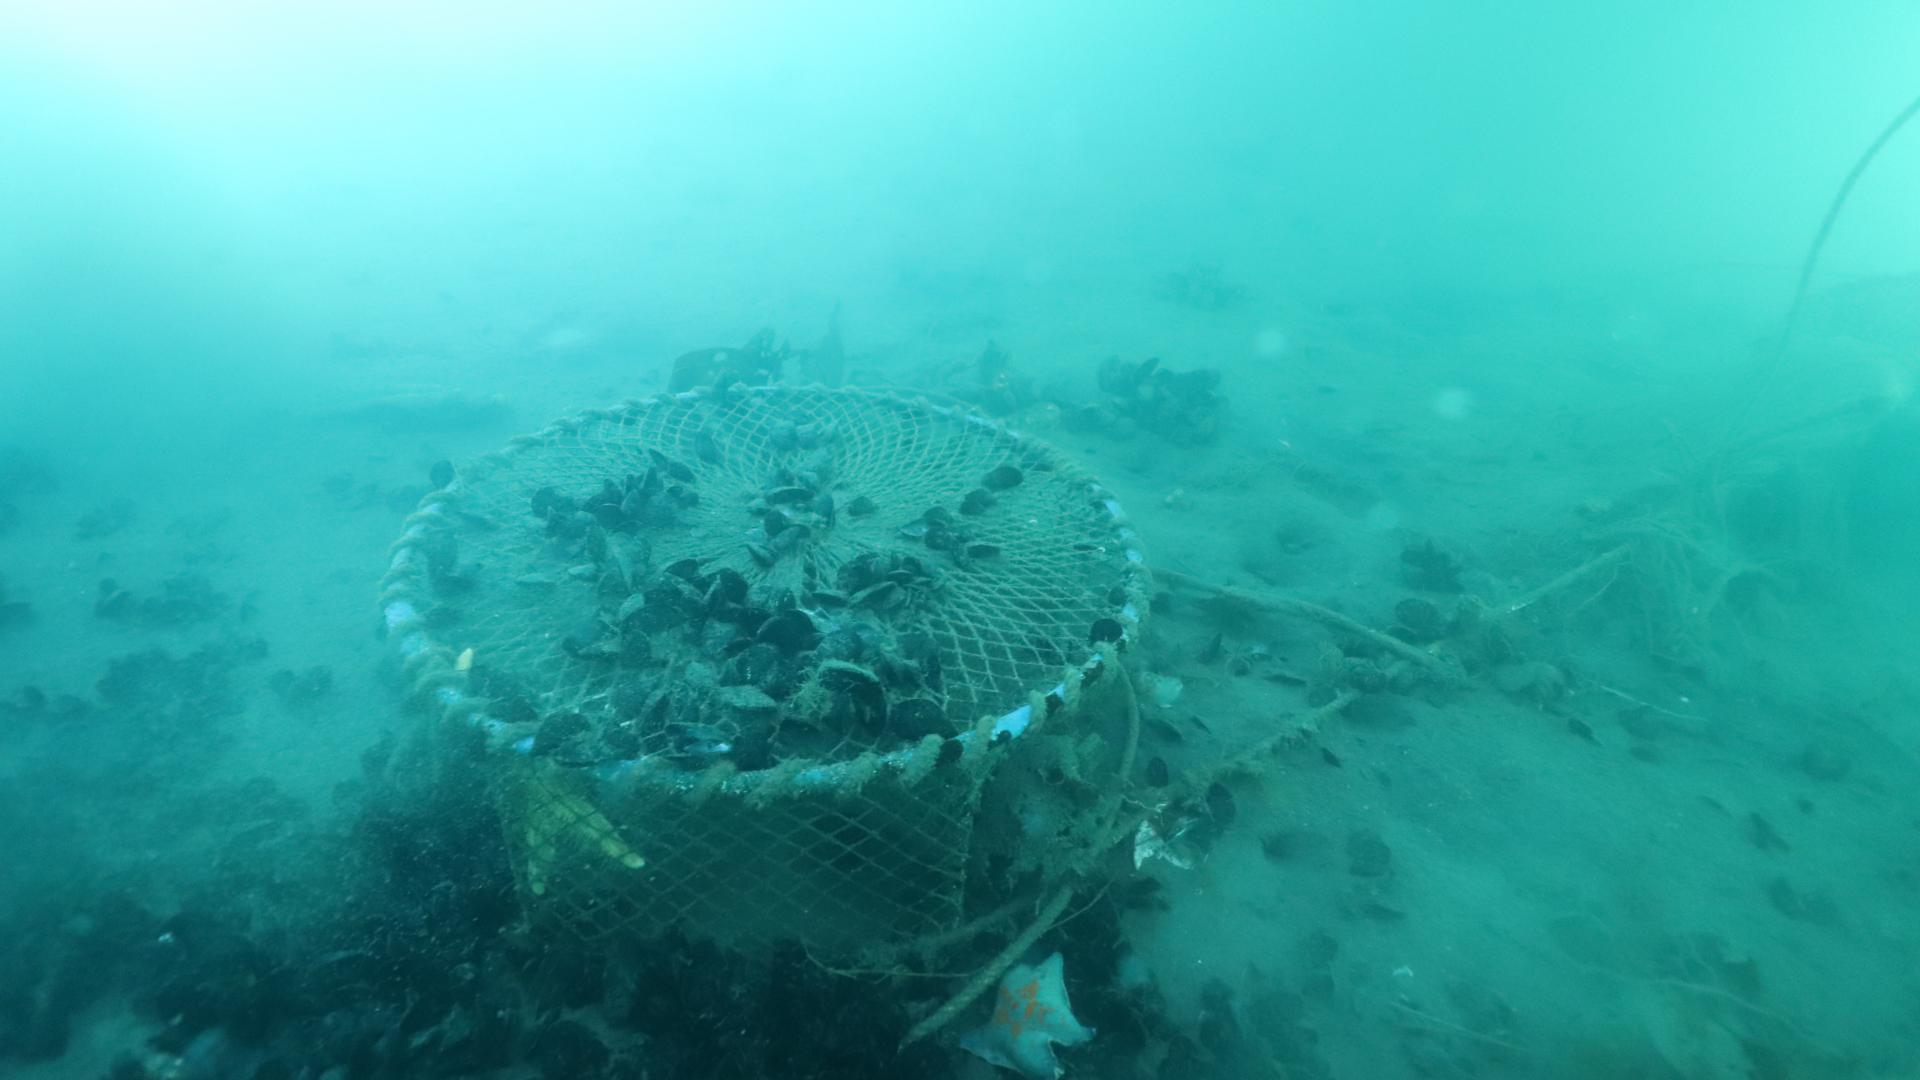circular fish trap: (378, 371, 1143, 992)
